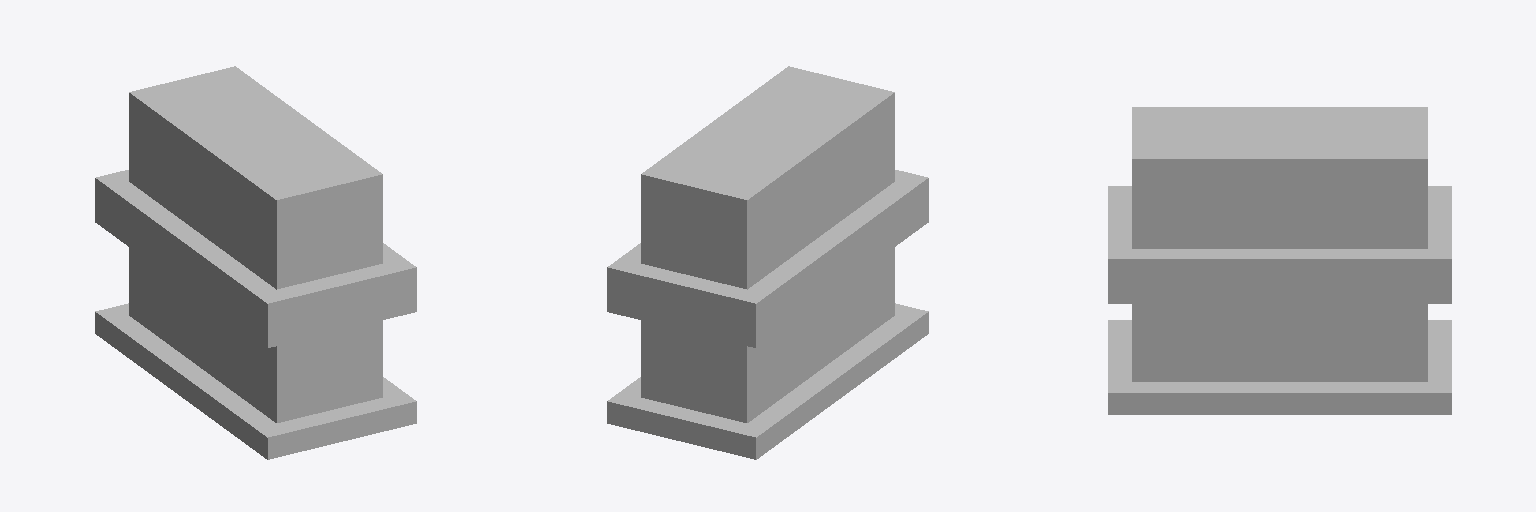
File: grass decoration.obj
3 views of the same model, side by side, from view 1: azimuth 30°, elevation 25°; view 2: azimuth 150°, elevation 25°; view 3: azimuth 270°, elevation 25° (orthographic).
Visible parts, largest first — view 1: object 1; view 2: object 1; view 3: object 1.
Boxes of the visible parts, box(x1,y1,x2,y2) form: object 1: box(95, 66, 416, 459); object 1: box(607, 66, 928, 459); object 1: box(1108, 107, 1451, 414).
Size of the model in its own units: 0.7 by 1.1 by 1.4.